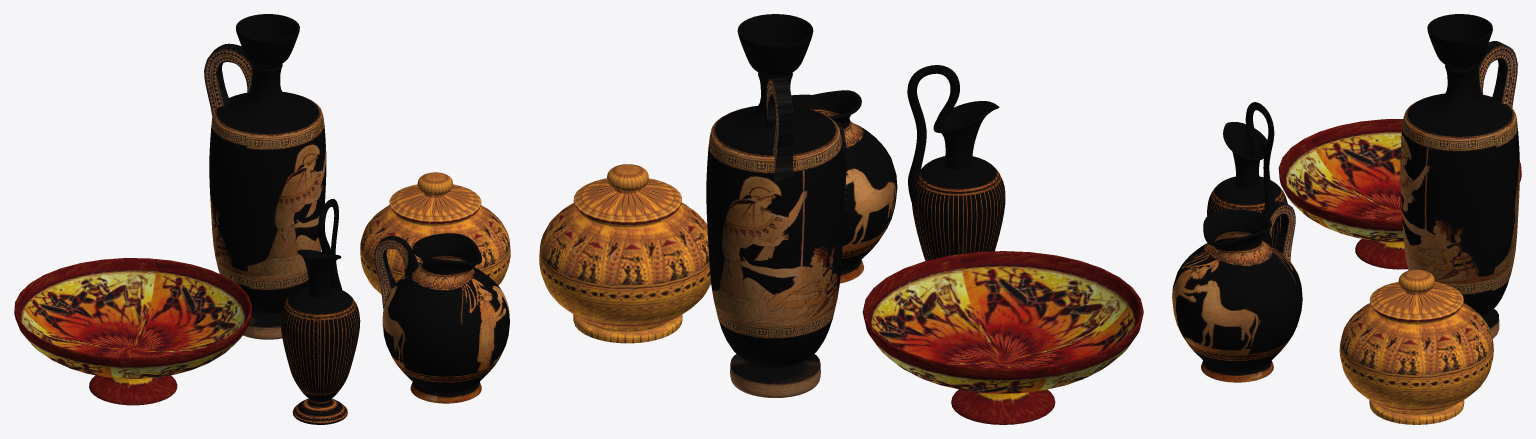
The model's file is Ampforen_Set_02_001.fbx.
The picture shows the model from 3 angles, left to right: view 1: azimuth 30°, elevation 25°; view 2: azimuth 150°, elevation 25°; view 3: azimuth 270°, elevation 25°; orthographic projection. The views are drawn at different scales.
Parts seen in each view (by area): view 1: GreekVase_02, GreekBowl_01, GreekVase_03, GreekVase_01, GreekPot_01; view 2: GreekVase_02, GreekBowl_01, GreekPot_01, GreekVase_01, GreekVase_03; view 3: GreekVase_02, GreekVase_03, GreekPot_01, GreekBowl_01, GreekVase_01.
Part boxes in pixels (x1=…): GreekVase_02: x1=204, y1=14, x2=326, y2=339; GreekBowl_01: x1=14, y1=258, x2=251, y2=405; GreekVase_03: x1=374, y1=233, x2=509, y2=403; GreekVase_01: x1=280, y1=199, x2=360, y2=424; GreekPot_01: x1=360, y1=172, x2=510, y2=294; GreekVase_02: x1=706, y1=14, x2=844, y2=397; GreekBowl_01: x1=862, y1=251, x2=1143, y2=424; GreekPot_01: x1=539, y1=164, x2=710, y2=343; GreekVase_01: x1=907, y1=65, x2=1005, y2=260; GreekVase_03: x1=791, y1=90, x2=897, y2=283; GreekVase_02: x1=1400, y1=14, x2=1519, y2=338; GreekVase_03: x1=1172, y1=201, x2=1302, y2=382; GreekPot_01: x1=1339, y1=269, x2=1493, y2=424; GreekBowl_01: x1=1278, y1=119, x2=1521, y2=269; GreekVase_01: x1=1207, y1=102, x2=1287, y2=247.
Bounding box in the file's own units: 107 × 63.69 × 66.09.
7 materials, 7 textured.
